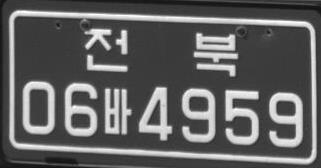0: (21, 79, 55, 135)
4: (138, 85, 172, 141)
5: (223, 87, 259, 145)
6: (64, 80, 98, 138)
9: (268, 90, 303, 148), (181, 87, 216, 143)
바: (103, 86, 131, 134)
전북_D: (84, 27, 238, 77)
